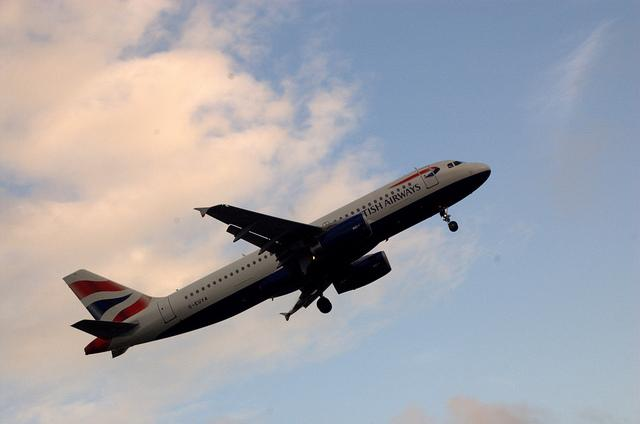airplane: (60, 158, 493, 361)
